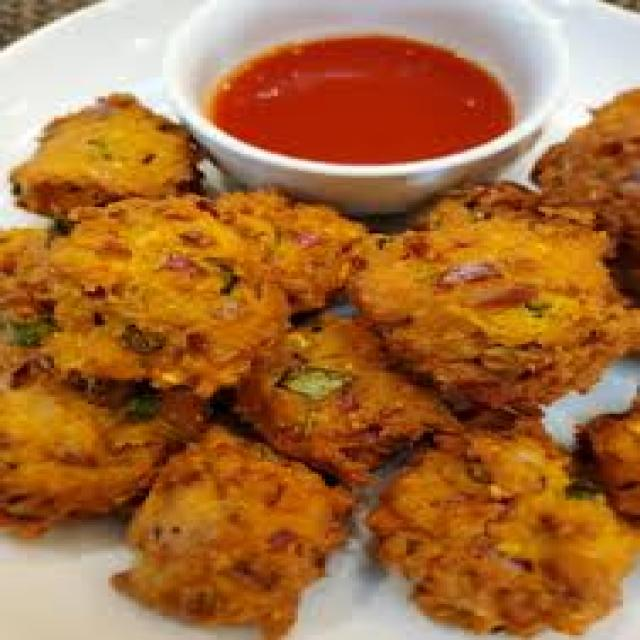BAJI: (357, 181, 616, 408), (22, 201, 308, 389), (374, 429, 630, 638), (106, 432, 357, 638), (2, 330, 198, 527), (232, 320, 461, 475), (10, 90, 213, 222), (199, 177, 371, 311), (540, 91, 637, 280), (578, 398, 637, 512)
